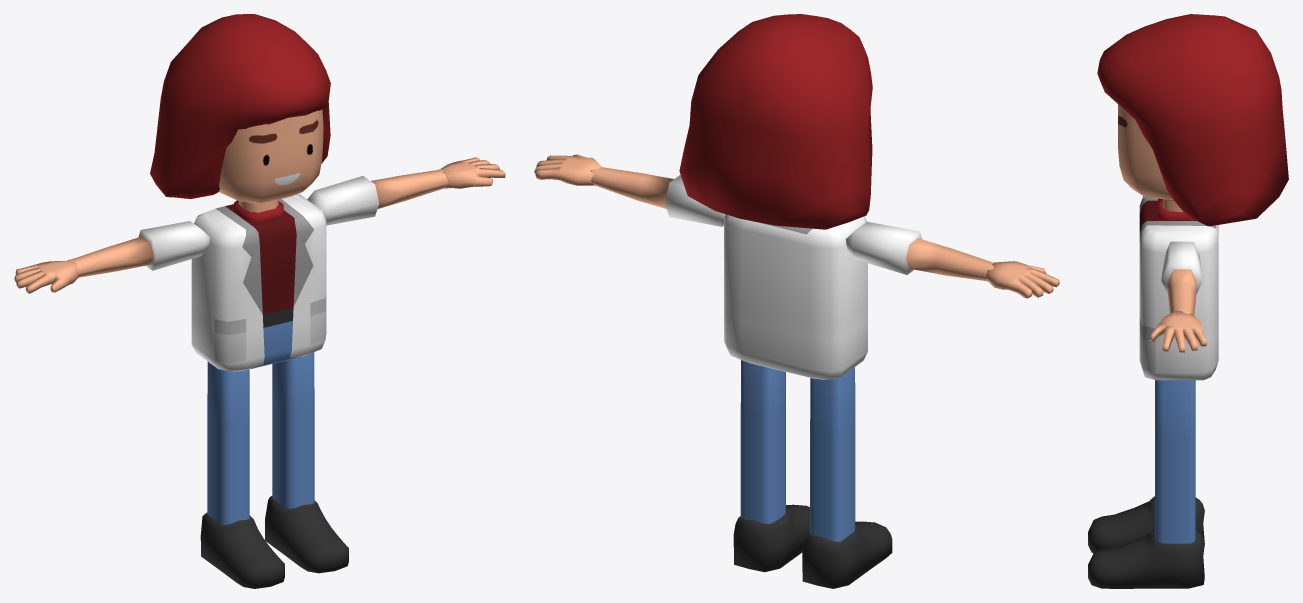
The model's file is NPC_White02_RedHair05.gltf.
The picture shows the model from 3 angles, left to right: view 1: azimuth 30°, elevation 25°; view 2: azimuth 150°, elevation 25°; view 3: azimuth 270°, elevation 25°; orthographic projection. The views are drawn at different scales.
Visible parts, largest first — view 1: NPC_Corpo_White2_RedHair.005; view 2: NPC_Corpo_White2_RedHair.005; view 3: NPC_Corpo_White2_RedHair.005.
Part boxes in pixels (x1,y1,x2,y2): NPC_Corpo_White2_RedHair.005: (14,14,505,588); NPC_Corpo_White2_RedHair.005: (534,14,1059,588); NPC_Corpo_White2_RedHair.005: (1088,14,1288,588).
Size of the model in its own units: 2.31 by 2.37 by 0.7967.
Materials: 1 (1 with a texture image).
